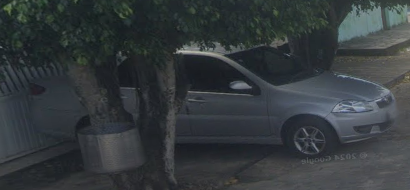car: (186, 38, 397, 165)
